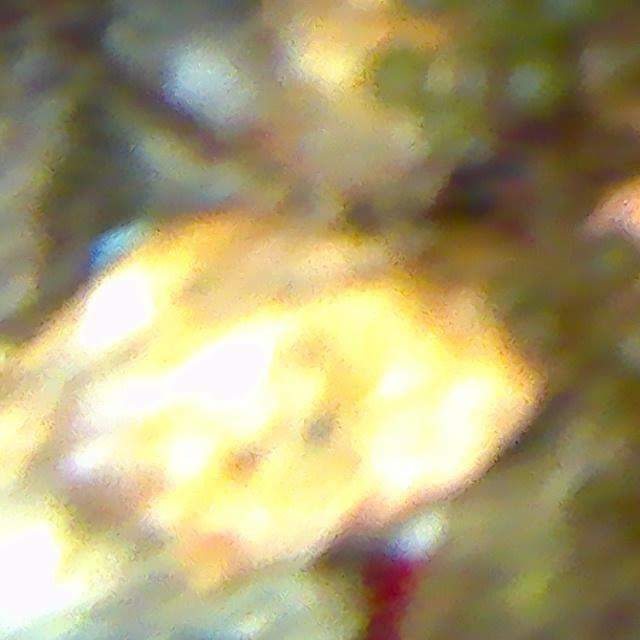SeaGrape: (495, 43, 578, 126), (575, 20, 640, 113), (578, 228, 640, 300), (580, 120, 640, 192), (373, 47, 429, 106), (510, 306, 565, 362)
